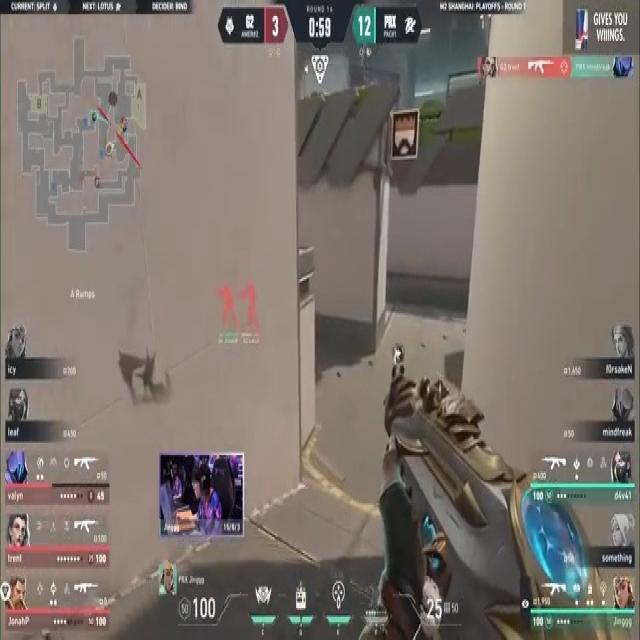enemy behind wall: (213, 277, 237, 335), (240, 280, 261, 336)
